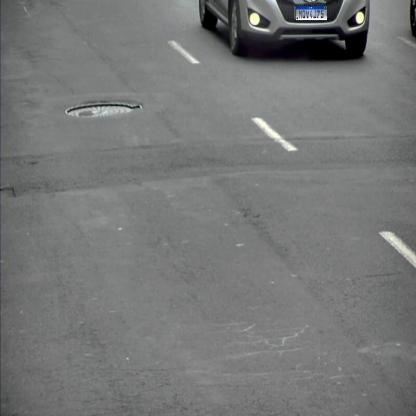PlacaM: (296, 5, 327, 21)
